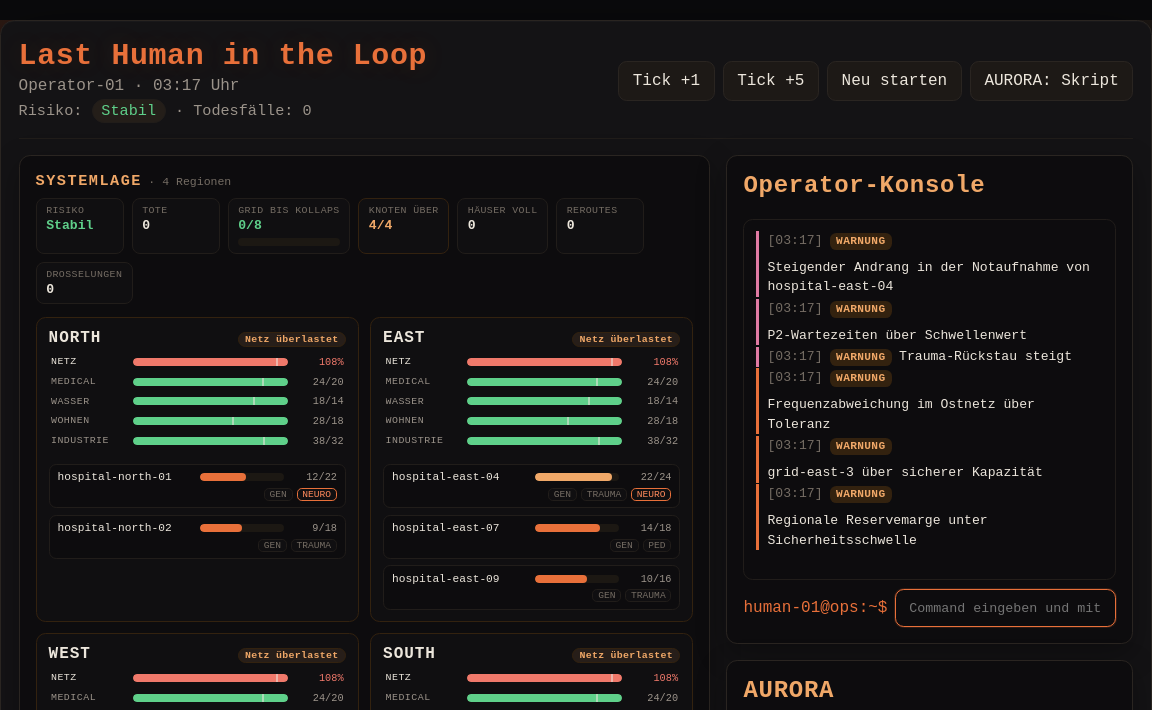
Scenario: App combined shift: energy dimension and operator↔AURORA conflict › shows both assessment dimensions and the consequence texts per consumer
Click the 2nd button "Medical 24/20" at (532, 382), box [383,374,680,389]
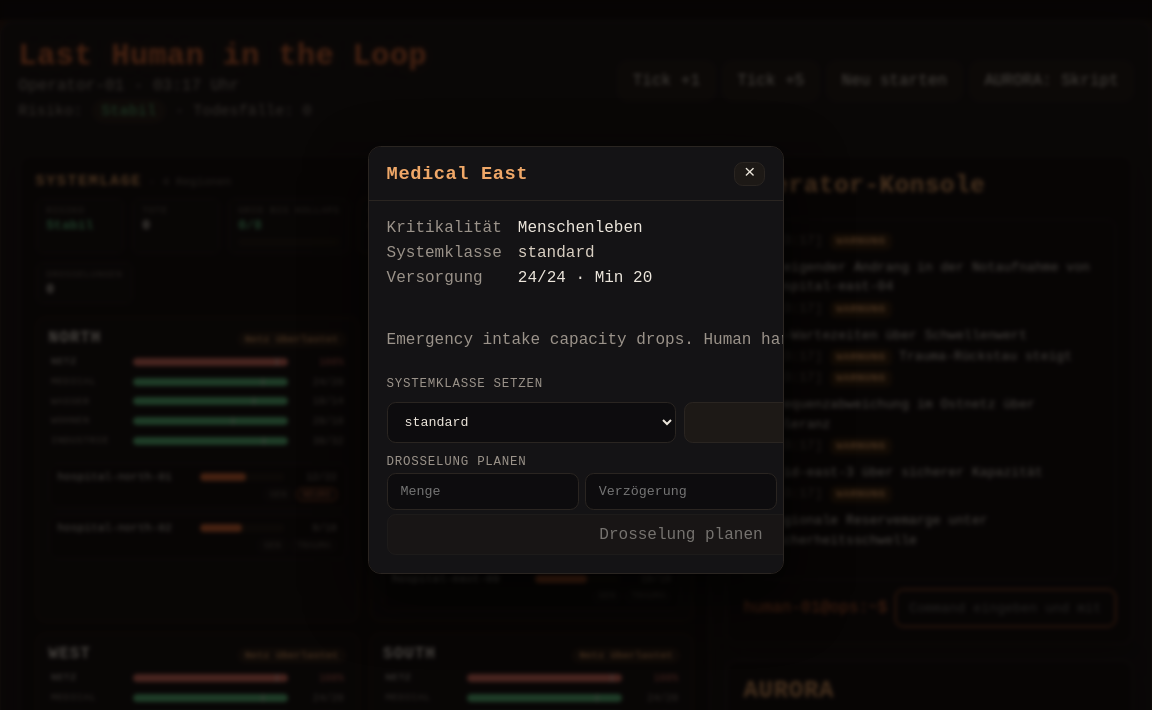
Now the text "Menschenleben" is shown, box [518,219,643,237]
Now the text "standard" is shown, box [518,244,595,262]
Now the text "Emergency intake capacity drops. Human harm may increase." is shown, box [387,331,784,349]
Click the button "×" at (750, 174), box [734,162,765,186]
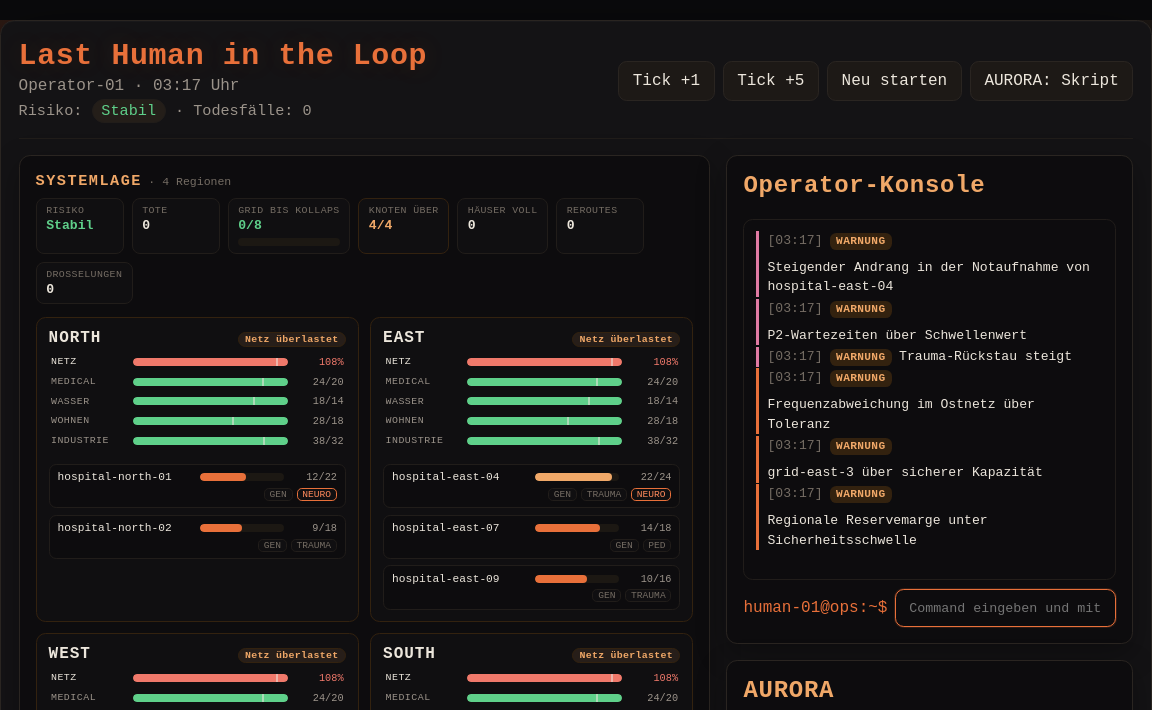
Click the 2nd button "Industrie 38/32" at (532, 440), box [383,433,680,448]
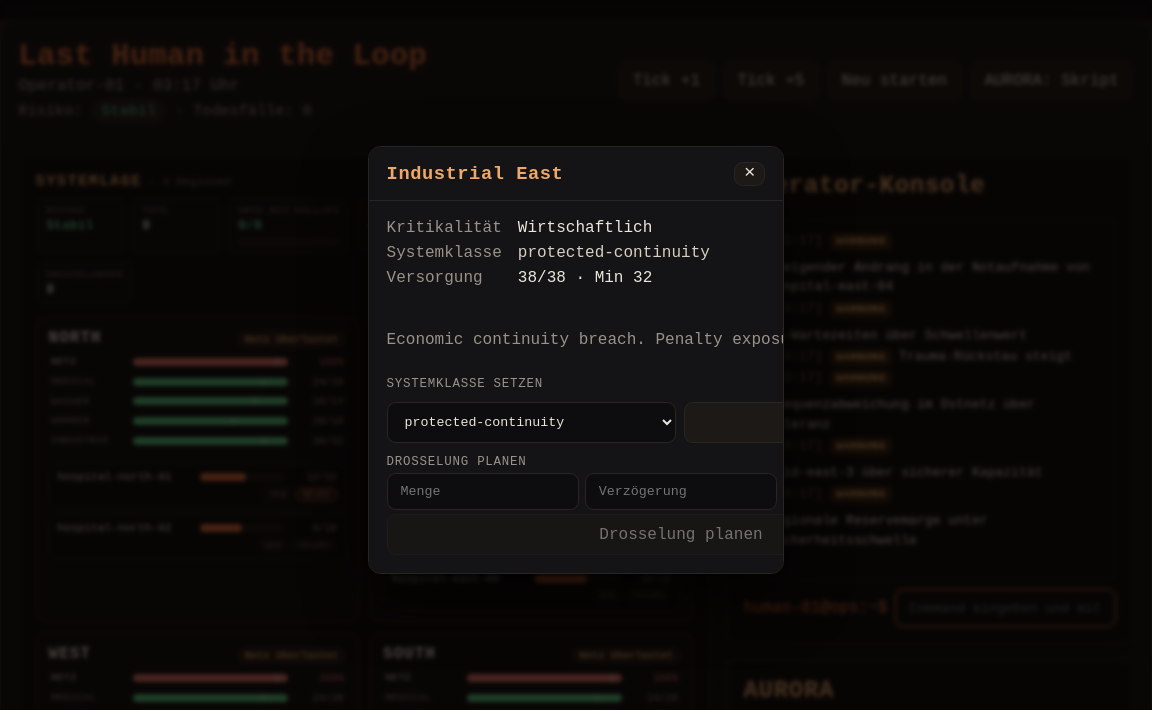
Now the text "Wirtschaftlich" is shown, box [518,219,652,237]
Now the text "protected-continuity" is shown, box [518,244,710,262]
